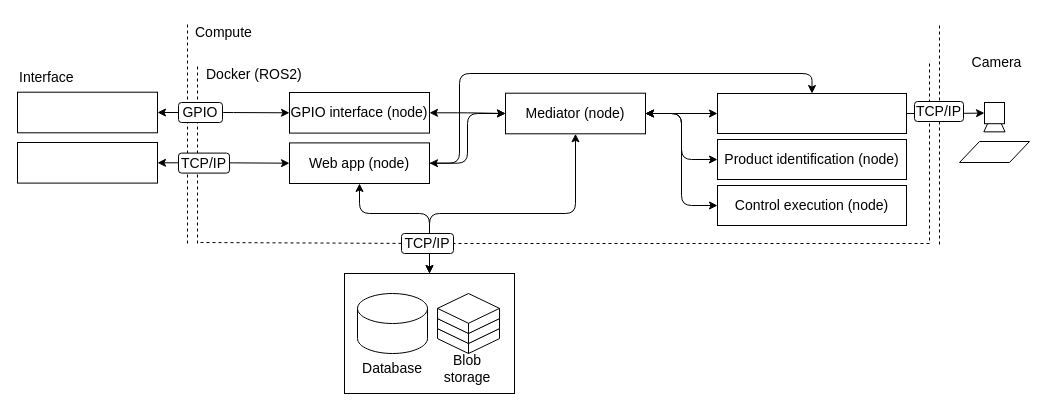
The diagram is 1047 pixels wide and 411 high, and some of its shapes have lost their labels. The centre of each missing label's shape, as x and y in pixels:
Image acquisition (node): point 811,113
PCB: point 994,151
PLC: point 87,112
Web client: point 87,162
